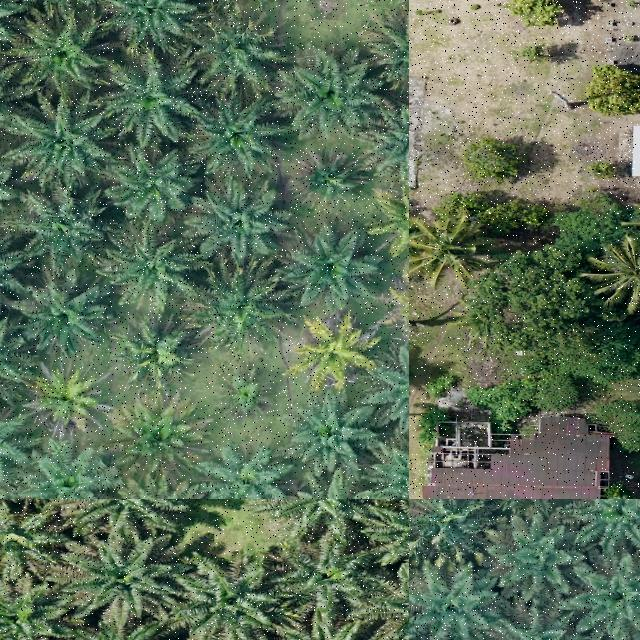Ganoderma: (301, 326, 364, 378), (38, 374, 95, 426), (388, 282, 409, 330), (392, 198, 409, 245)
